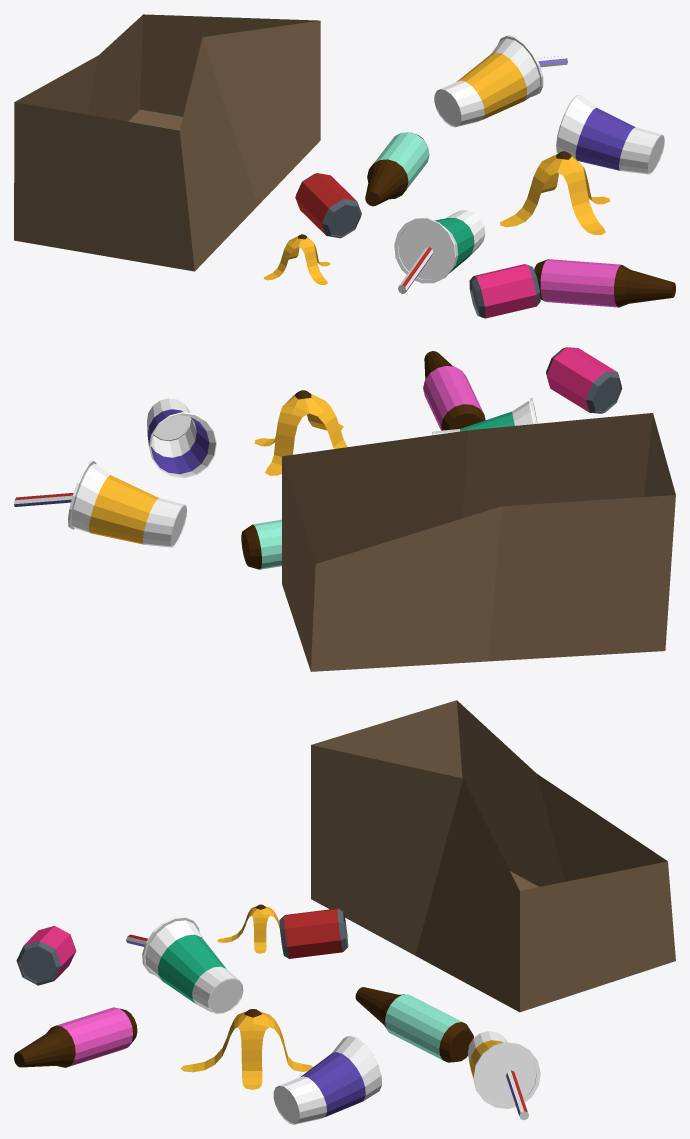
File: TrashPile.fbx
3 renders of one model, top to bottom at view 1: azimuth 30°, elevation 25°; view 2: azimuth 150°, elevation 25°; view 3: azimuth 270°, elevation 25°, orthographic. The views are drawn at different scales.
Visible parts, largest first — view 1: Plane.003; view 2: Plane.003; view 3: Plane.003.
Part boxes in pixels (x1,y1,x2,y2): Plane.003: [14, 14, 675, 318]; Plane.003: [14, 347, 675, 671]; Plane.003: [14, 700, 675, 1124].
Size of the model in its own units: 346 by 102 by 334.
